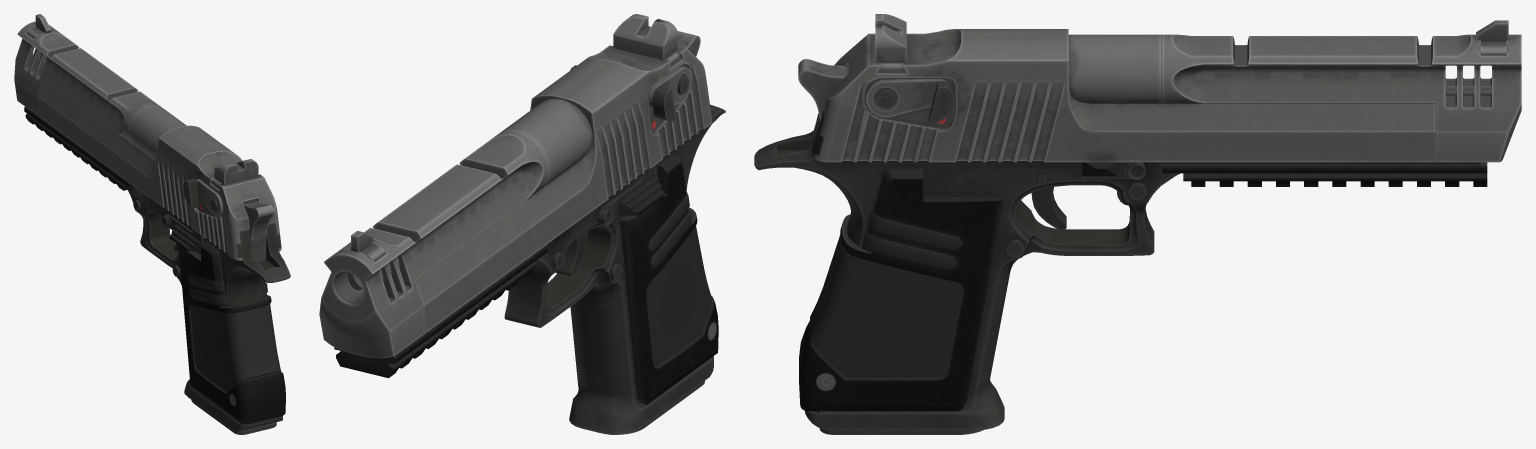
File: w_deagle.glb
3 views of the same model, side by side, from view 1: azimuth 30°, elevation 25°; view 2: azimuth 150°, elevation 25°; view 3: azimuth 270°, elevation 25° (orthographic). The views are drawn at different scales.
Visible parts, largest first — view 1: body, slide, mag; view 2: body, slide; view 3: body, slide, mag.
Boxes of the visible parts, bbox=[...] form: body: bbox=[14, 21, 290, 431]; slide: bbox=[27, 14, 281, 261]; mag: bbox=[191, 400, 276, 434]; body: bbox=[319, 14, 725, 434]; slide: bbox=[339, 31, 712, 334]; body: bbox=[754, 14, 1521, 430]; slide: bbox=[798, 20, 1508, 162]; mag: bbox=[819, 428, 983, 434].
Bounding box in the file's own units: 0.0416 × 0.1541 × 0.27.
2 materials, 2 textured.
